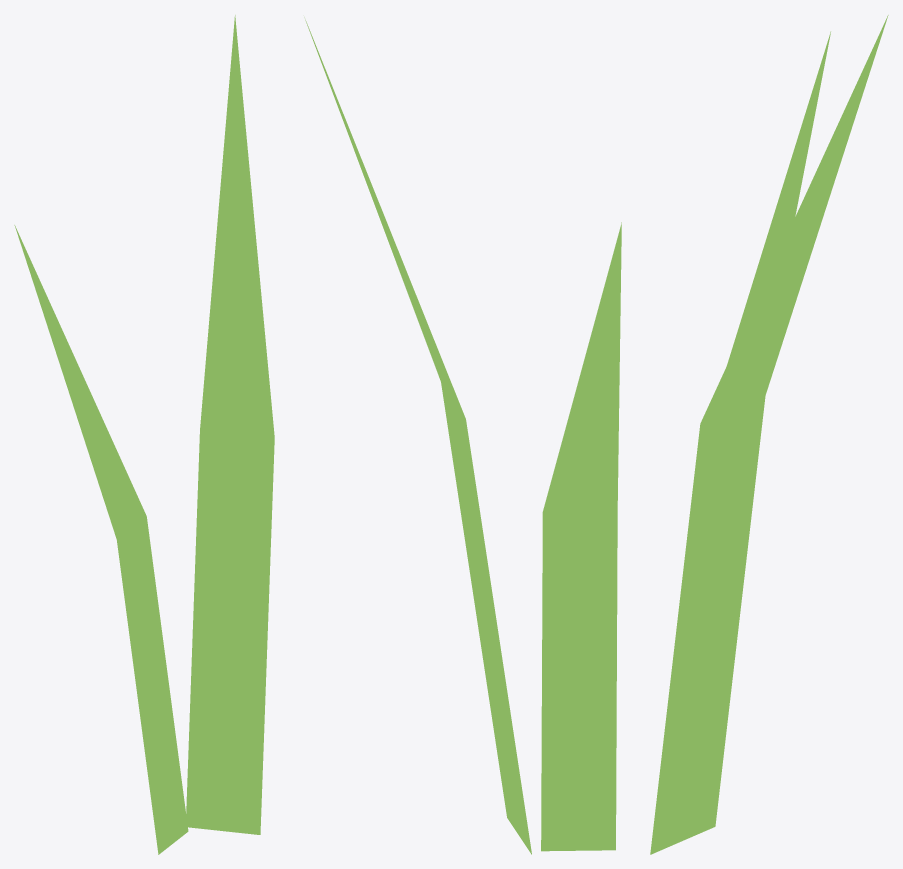
The model's file is Grass_b_TwoS_01.fbx.
The picture shows the model from 3 angles, left to right: view 1: azimuth 30°, elevation 25°; view 2: azimuth 150°, elevation 25°; view 3: azimuth 270°, elevation 25°; orthographic projection. The views are drawn at different scales.
Visible parts, largest first — view 1: Grass_b_TwoS_01; view 2: Grass_b_TwoS_01; view 3: Grass_b_TwoS_01.
Boxes of the visible parts, bbox=[...] form: Grass_b_TwoS_01: bbox=[14, 15, 274, 854]; Grass_b_TwoS_01: bbox=[304, 17, 621, 854]; Grass_b_TwoS_01: bbox=[650, 15, 888, 854].
Size of the model in its own units: 0.1482 by 0.4233 by 0.1035.
